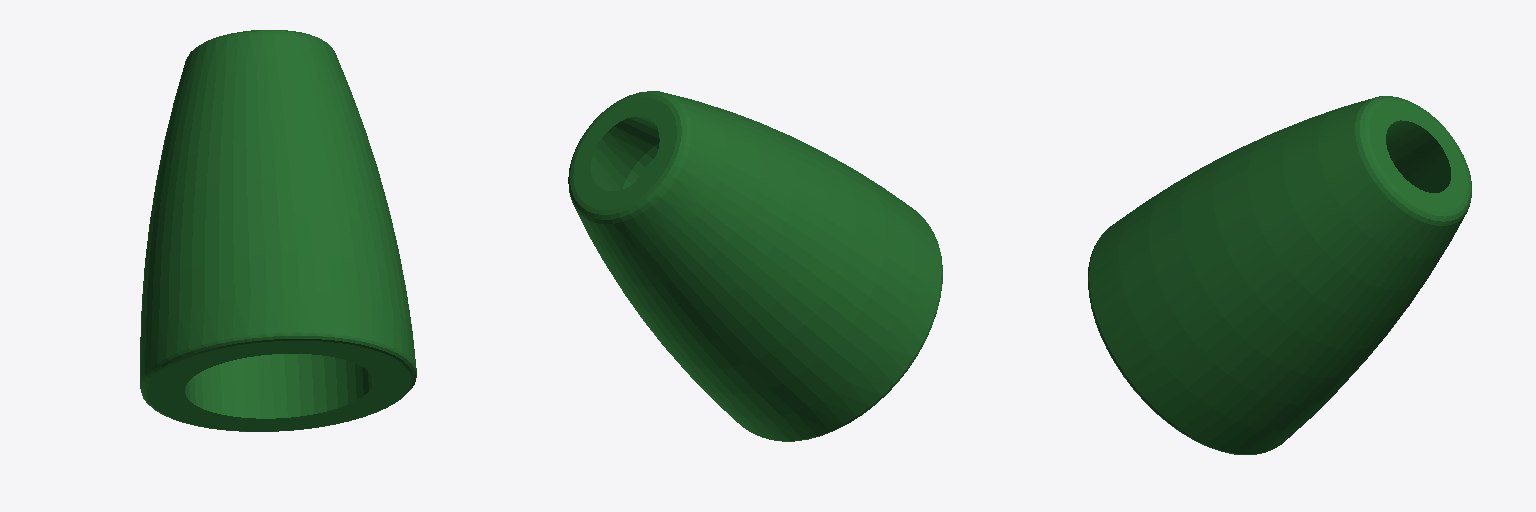
Rendered from meccanum_wheel_roller.obj.
The picture shows the model from 3 angles: view 1: azimuth 30°, elevation 25°; view 2: azimuth 150°, elevation 25°; view 3: azimuth 270°, elevation 25°; orthographic projection.
Parts seen in each view (by area): view 1: Твердое тело2; view 2: Твердое тело2; view 3: Твердое тело2.
Boxes of the visible parts, x1=… form: Твердое тело2: x1=140, y1=30, x2=416, y2=431; Твердое тело2: x1=568, y1=91, x2=942, y2=441; Твердое тело2: x1=1088, y1=96, x2=1471, y2=454.
Size of the model in its own units: 24.84 by 31.81 by 30.92.